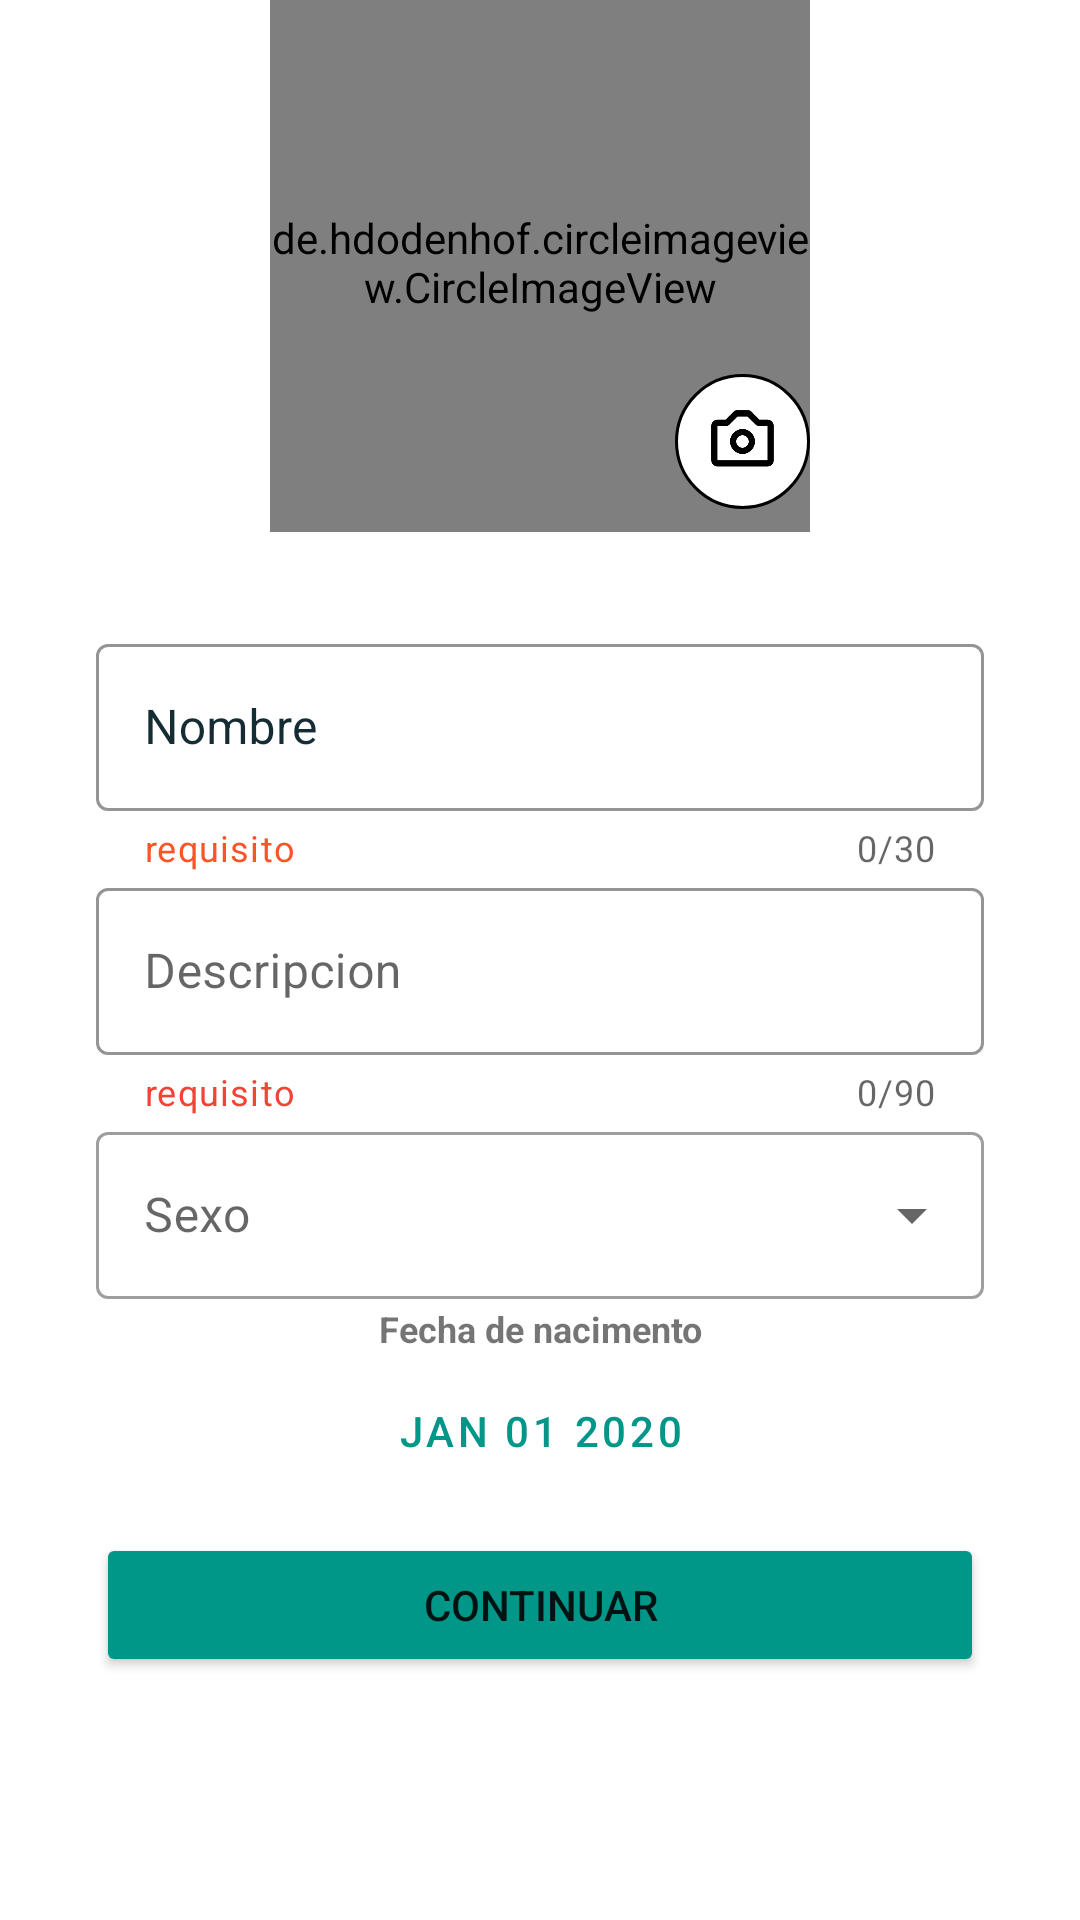

Where to tap for icons on this 1080px×1920px app screen, as (x=x, y=y):
camera: (x=742, y=441)
